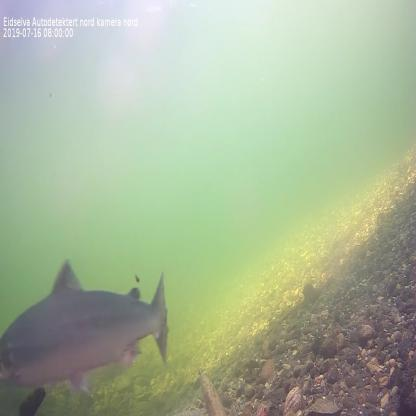salmon: (0, 257, 172, 398)
